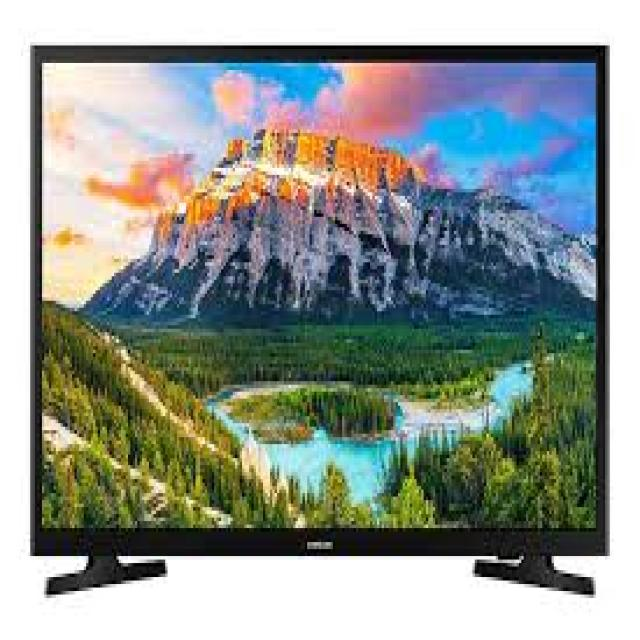tv: (29, 50, 612, 556)
